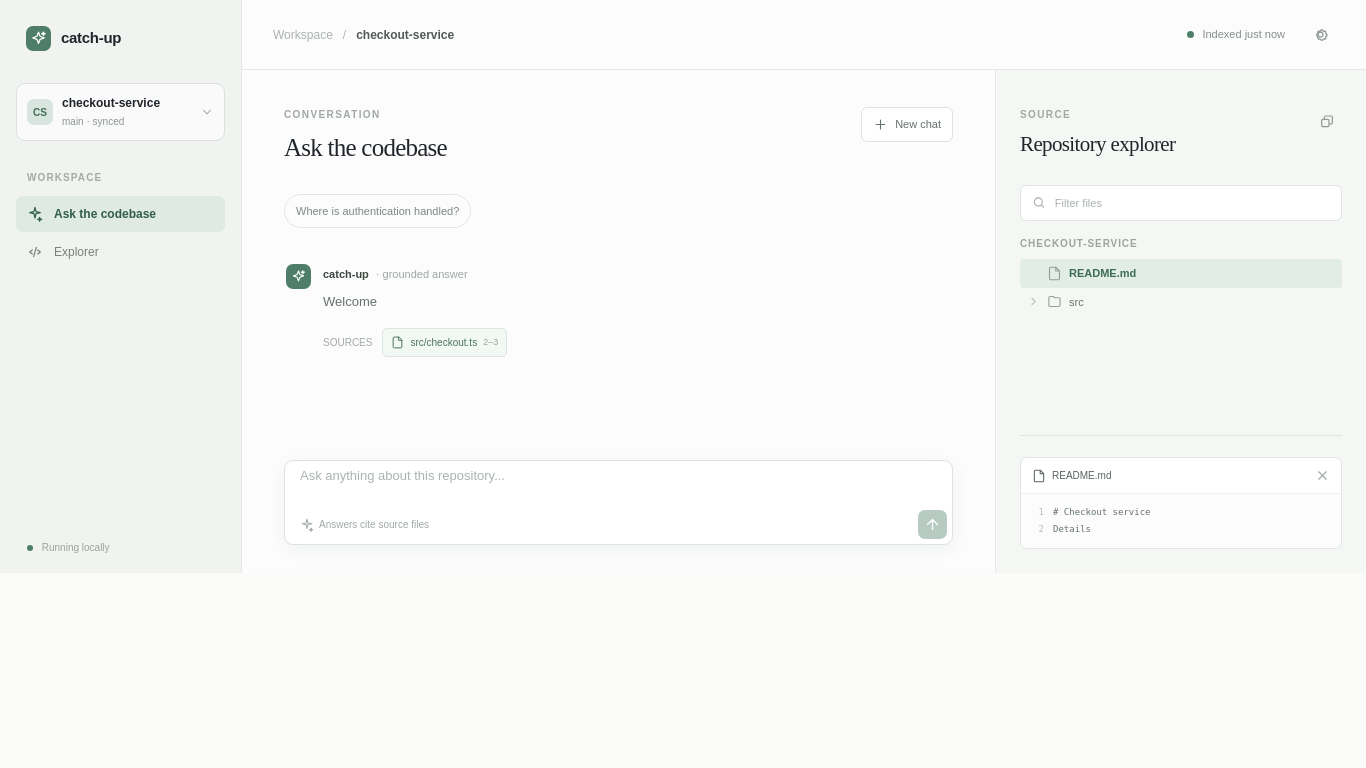
Test case: Workspace › closes the active source preview
Expected: the text "# Checkout service" is shown, [1053, 507, 1150, 517]
Step 1. Click the button named "Close preview" → x=1322, y=476, box [1315, 468, 1330, 483]
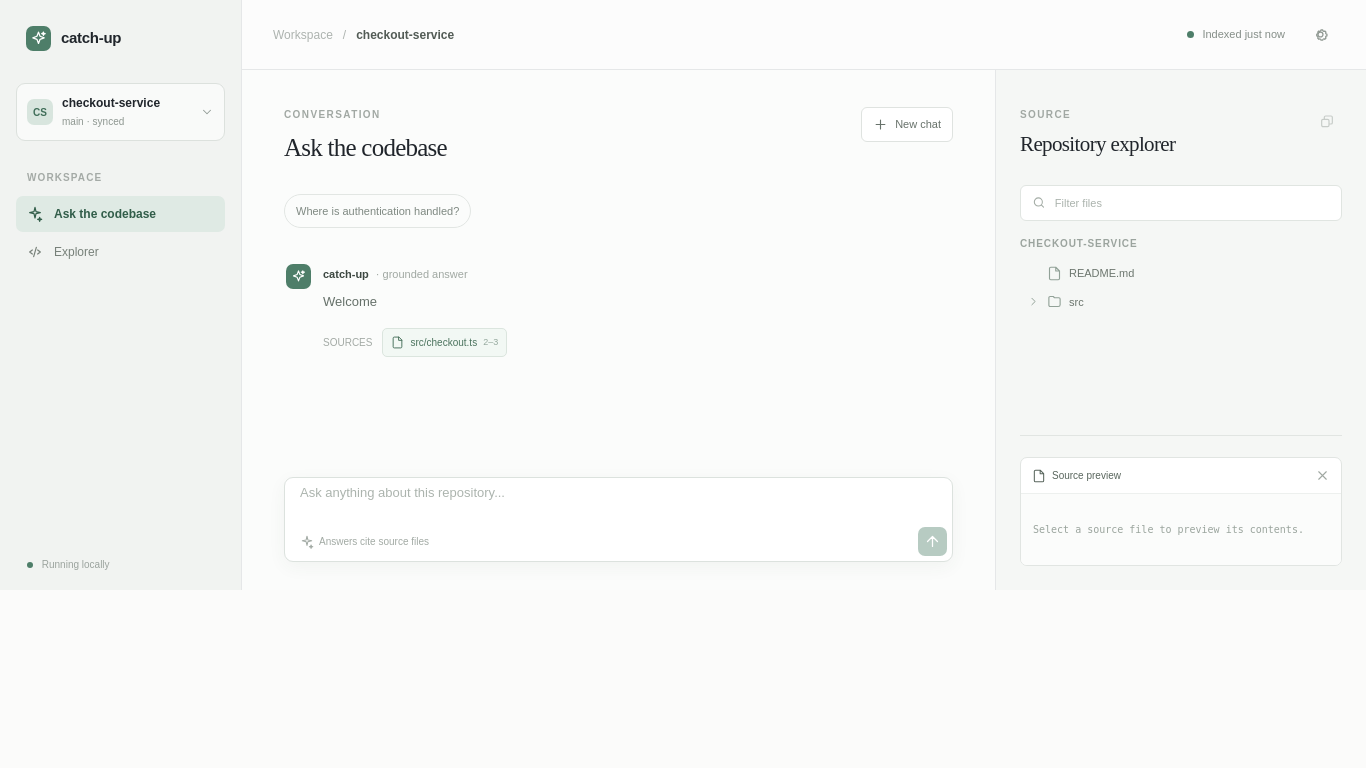
Result: the text "Select a source file to preview its contents." is shown at [1033, 524, 1304, 535]
Result: the text "# Checkout service" is gone
